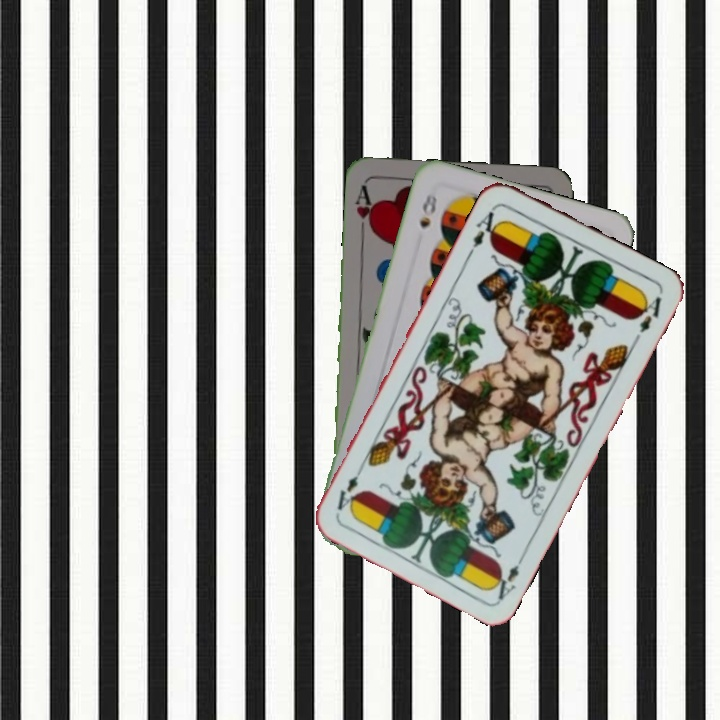EA: (487, 548, 529, 603), (464, 202, 504, 258)
HA: (351, 181, 378, 239)
S8: (415, 188, 440, 231)
